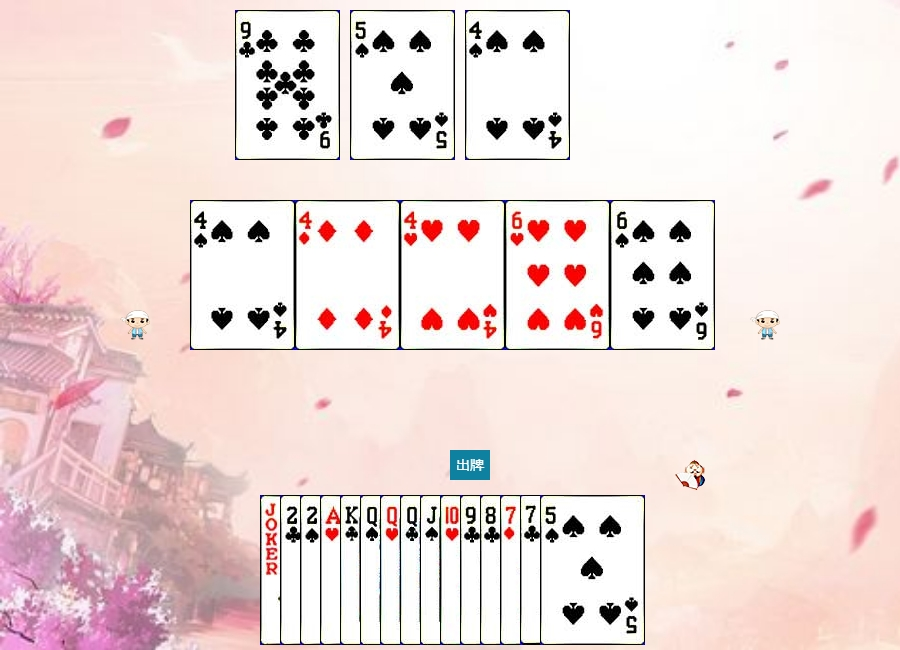10~3: (440, 495, 545, 645)
11~4: (420, 495, 525, 645)
12~2: (400, 495, 505, 645)
12~3: (380, 495, 485, 645)
12~4: (360, 495, 465, 645)
13~2: (340, 495, 445, 645)
14~3: (320, 495, 425, 645)
15~2: (280, 495, 385, 645)
15~4: (300, 495, 405, 645)
18~4: (260, 495, 365, 645)
4~1: (295, 200, 400, 350)
4~3: (400, 200, 505, 350)
4~4: (465, 10, 570, 160), (190, 200, 295, 350)
5~4: (350, 10, 455, 160), (540, 495, 645, 645)
6~3: (505, 200, 610, 350)
6~4: (610, 200, 715, 350)
7~1: (500, 495, 605, 645)
7~2: (520, 495, 625, 645)
8~2: (480, 495, 585, 645)
9~2: (235, 10, 340, 160), (460, 495, 565, 645)
